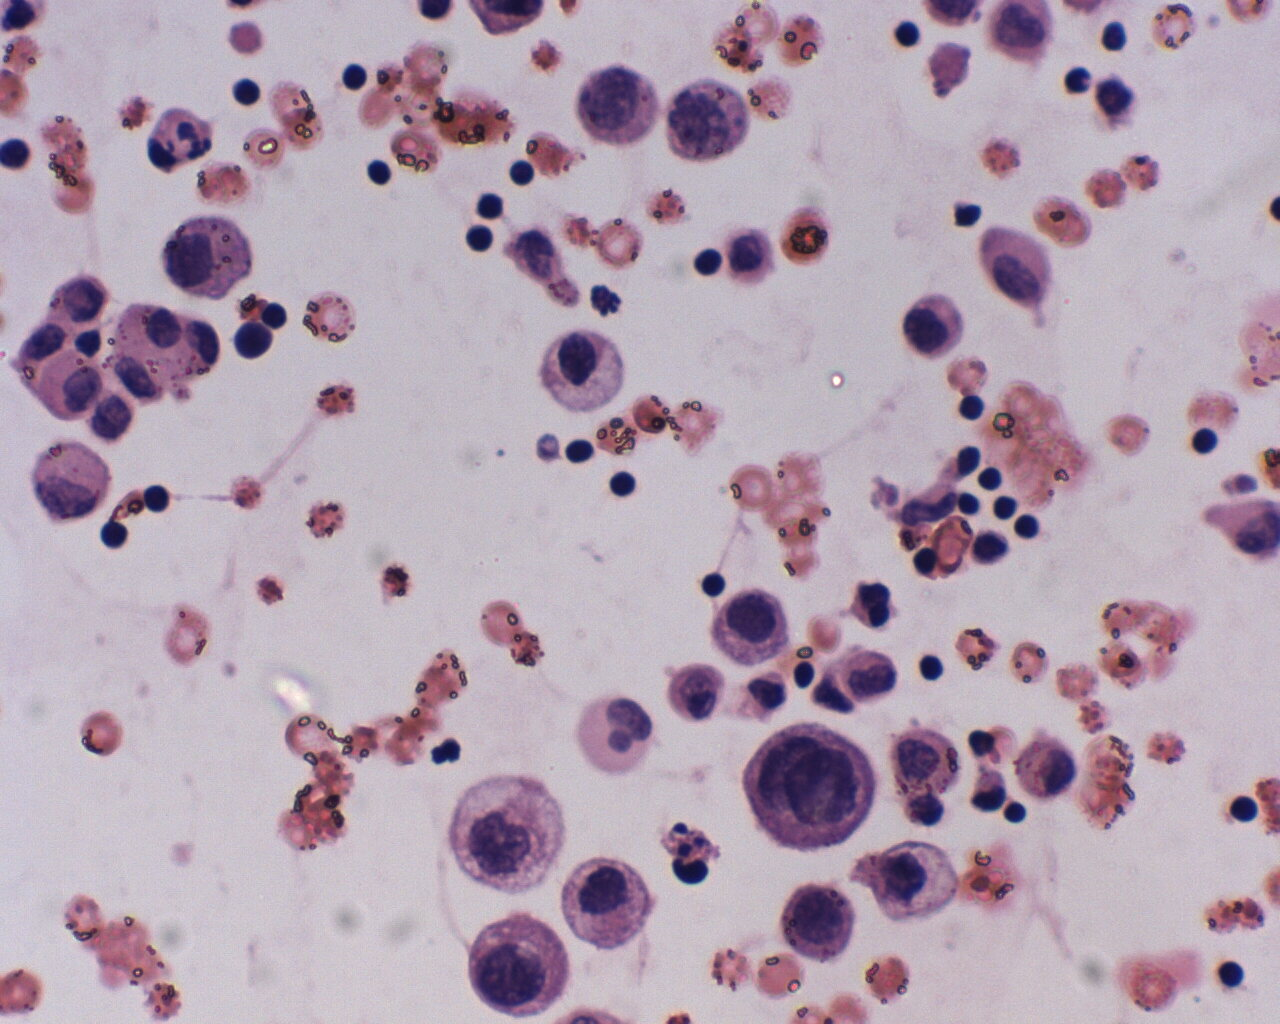ab: (741, 719, 878, 855), (466, 908, 578, 1024), (162, 217, 265, 304), (574, 61, 667, 152), (664, 78, 753, 164), (772, 882, 861, 967), (712, 584, 794, 670), (886, 722, 962, 797)
lymph: (457, 223, 506, 260), (1224, 790, 1269, 827), (1185, 422, 1226, 459), (605, 463, 639, 503)
meso: (31, 351, 104, 420)
